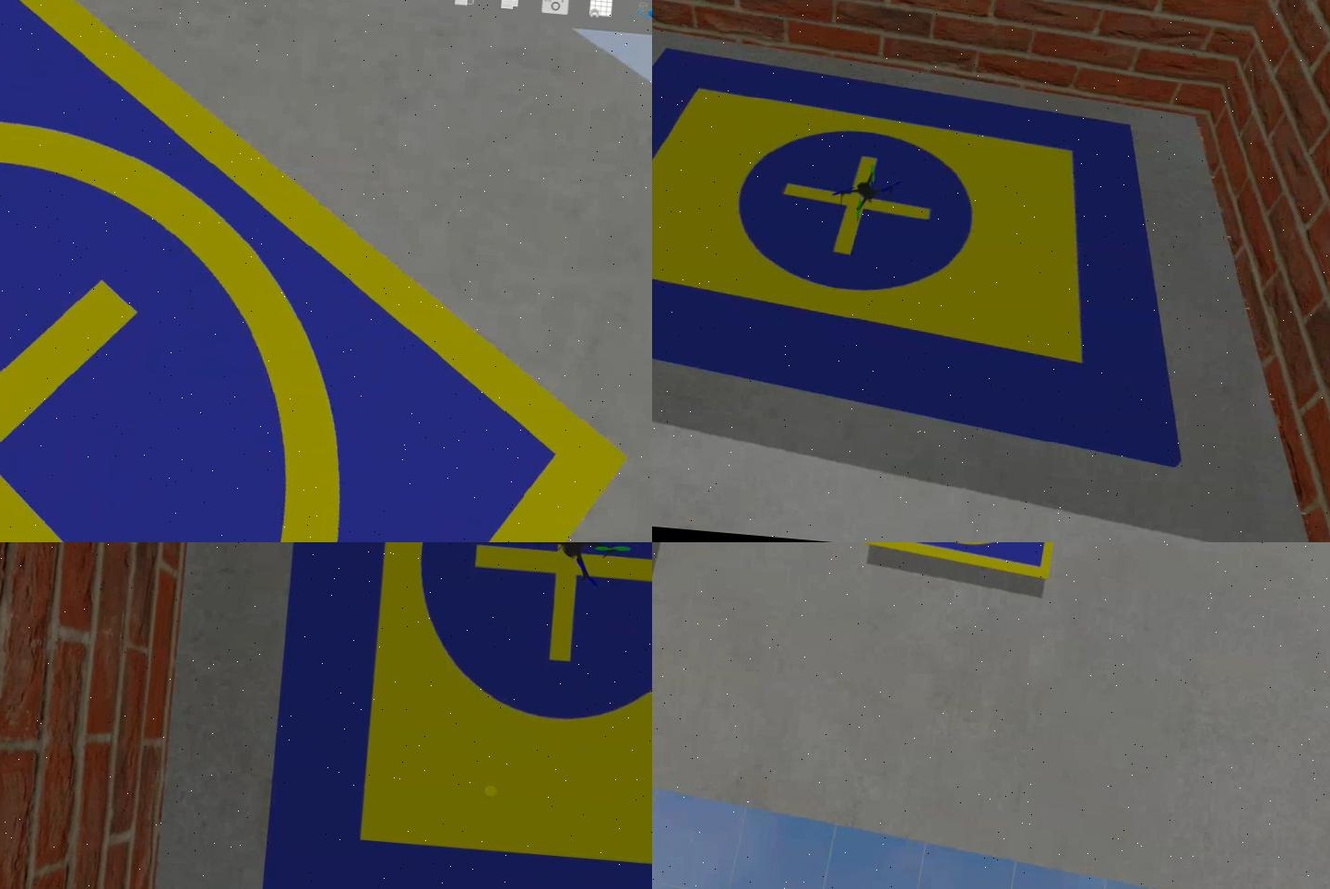large_base: (651, 30, 1213, 461), (256, 542, 651, 889)
small_base: (0, 1, 651, 542), (861, 542, 1076, 587)
